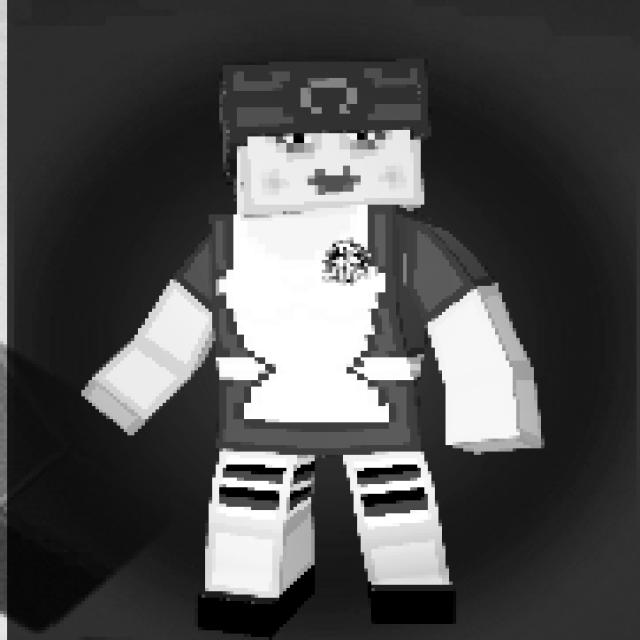Head: (221, 60, 428, 213)
Player: (81, 58, 541, 640)
